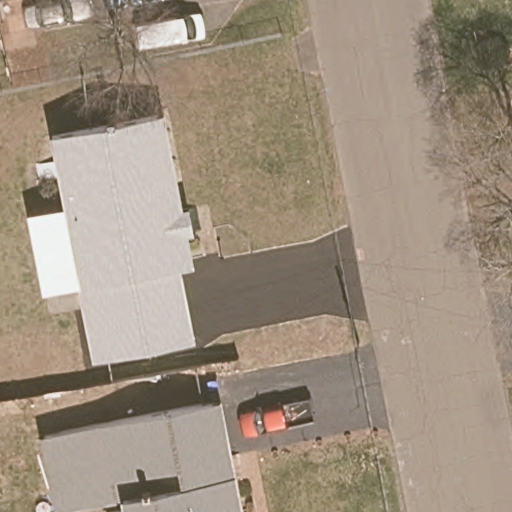DT: (347, 308, 364, 362)
